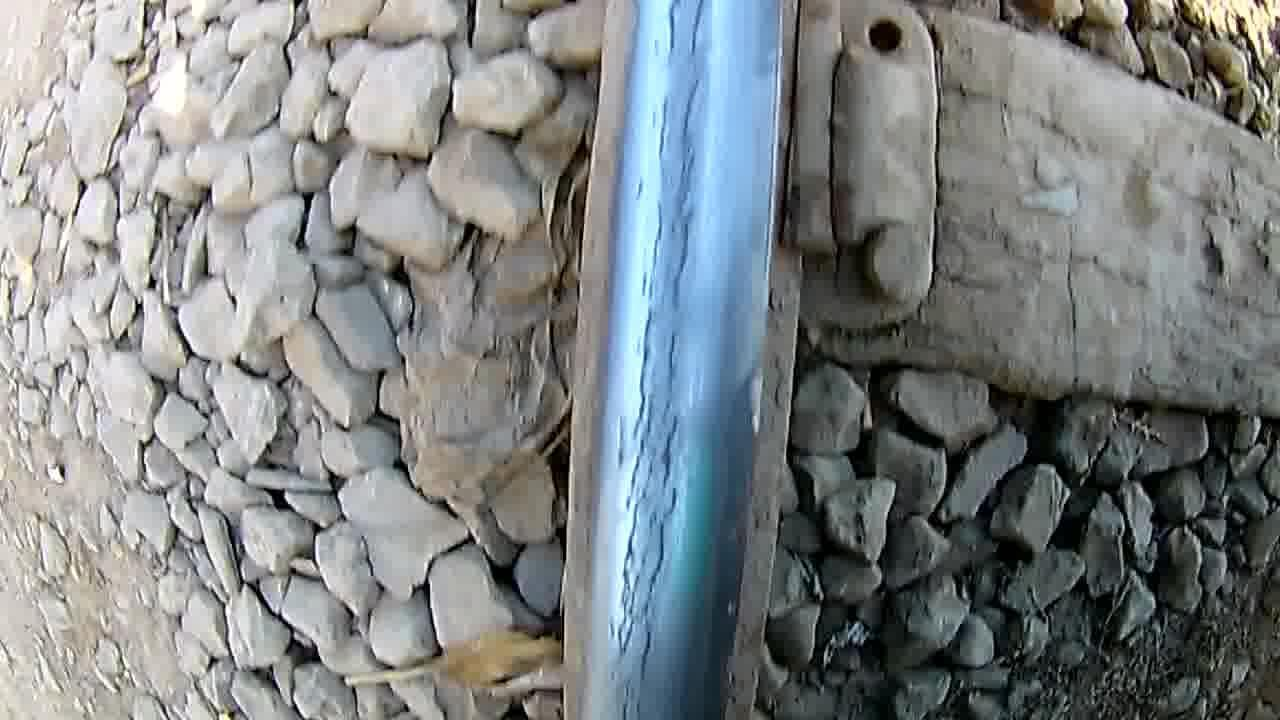crack: (611, 5, 707, 720)
